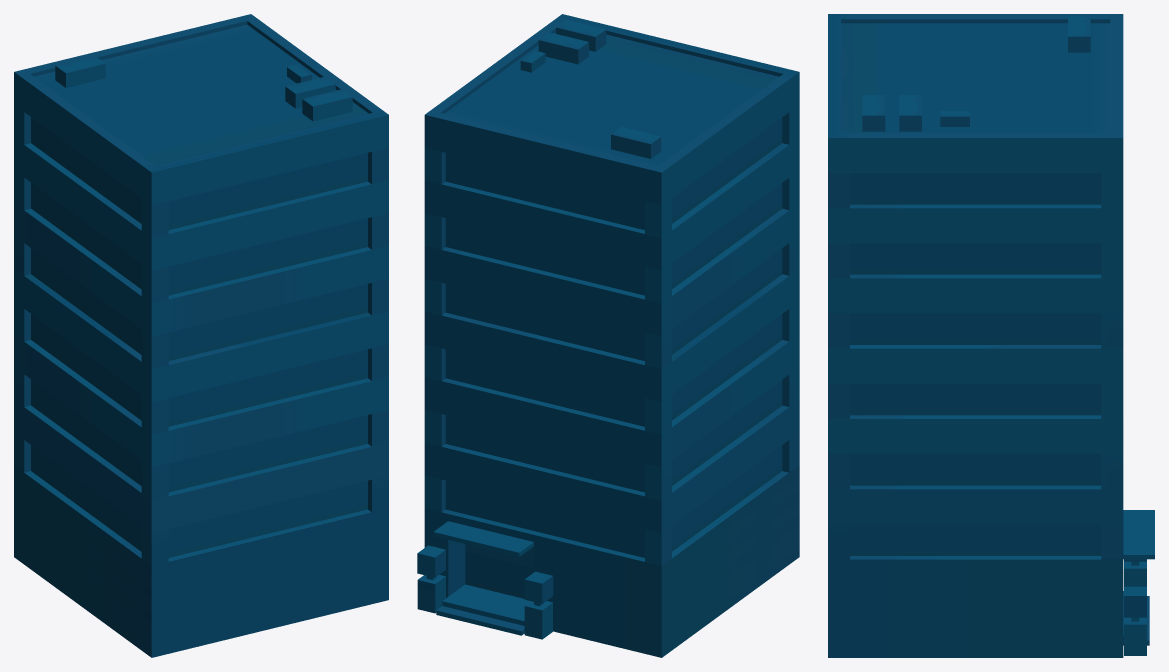
Rendered from Office_large.FBX.
3 views of the same model, side by side, from view 1: azimuth 30°, elevation 25°; view 2: azimuth 150°, elevation 25°; view 3: azimuth 270°, elevation 25° (orthographic). The views are drawn at different scales.
Visible parts, largest first — view 1: Office_large; view 2: Office_large; view 3: Office_large.
Part boxes in pixels (bbox=[...]): Office_large: bbox=[14, 14, 388, 657]; Office_large: bbox=[417, 14, 799, 657]; Office_large: bbox=[828, 14, 1154, 657].
Size of the model in its own units: 13.62 by 27.24 by 15.17.
